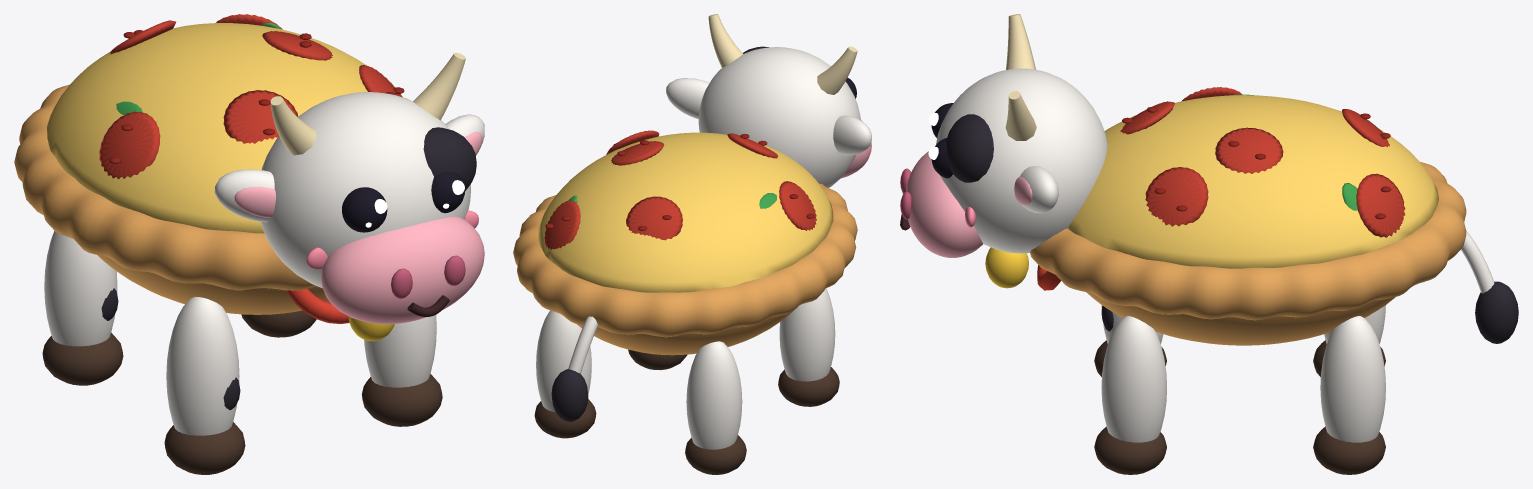
The model's file is pilot_ku_pizza.glb.
The picture shows the model from 3 angles, left to right: view 1: azimuth 30°, elevation 25°; view 2: azimuth 150°, elevation 25°; view 3: azimuth 270°, elevation 25°; orthographic projection. The views are drawn at different scales.
Parts seen in each view (by area): view 1: kropp, hode, bein_vf, bein_vb, bein_hf, bein_hb; view 2: kropp, hode, bein_vb, bein_vf, bein_hb, hale, bein_hf; view 3: kropp, hode, bein_hb, bein_hf, hale, bein_vf, bein_vb.
Part boxes in pixels (bbox=[...]): kropp: bbox=[14, 14, 408, 314]; hode: bbox=[214, 52, 484, 341]; bein_vf: bbox=[164, 297, 245, 474]; bein_vb: bbox=[42, 231, 123, 385]; bein_hf: bbox=[361, 315, 442, 426]; bein_hb: bbox=[241, 310, 316, 337]; kropp: bbox=[513, 130, 857, 355]; hode: bbox=[666, 14, 871, 187]; bein_vb: bbox=[685, 341, 746, 474]; bein_vf: bbox=[778, 288, 839, 406]; bein_hb: bbox=[534, 310, 596, 438]; hale: bbox=[551, 316, 597, 421]; bein_hf: bbox=[628, 349, 687, 370]; kropp: bbox=[1030, 87, 1466, 345]; hode: bbox=[900, 14, 1107, 290]; bein_hb: bbox=[1313, 316, 1385, 474]; bein_hf: bbox=[1094, 316, 1166, 474]; hale: bbox=[1461, 231, 1518, 343]; bein_vf: bbox=[1094, 305, 1166, 376]; bein_vb: bbox=[1313, 305, 1385, 377].
Size of the model in its own units: 1.07 by 1.13 by 1.7.
